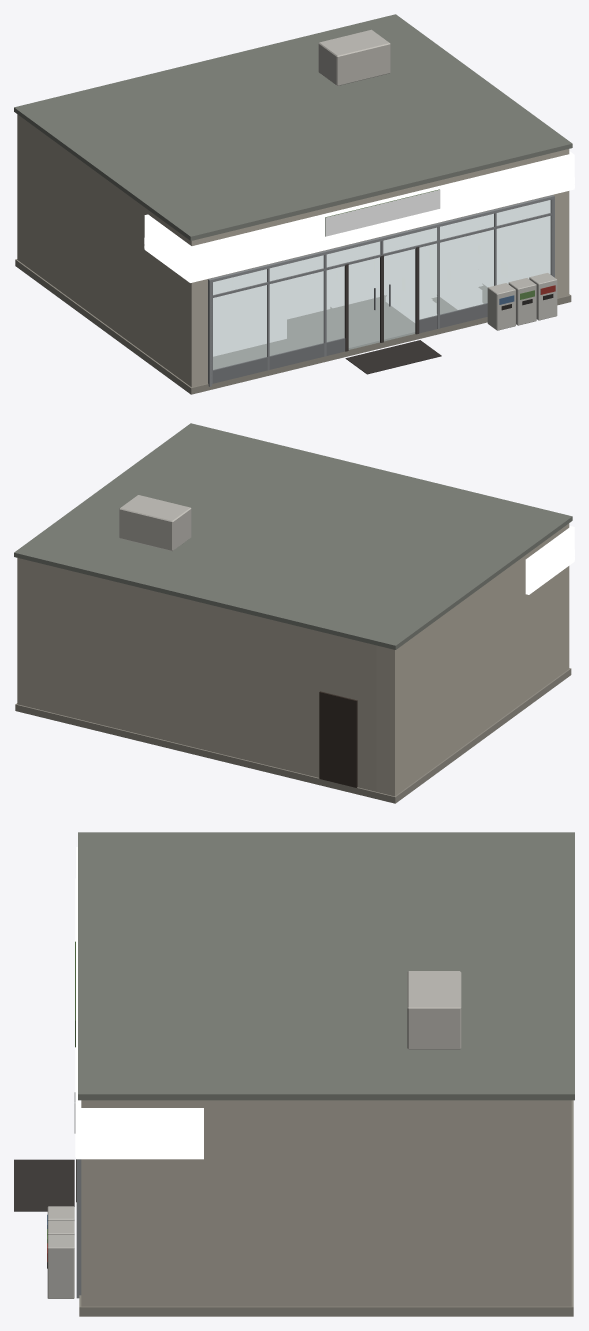
Rendered from building_konbini_01.glb.
3 views of the same model, one above another, from view 1: azimuth 30°, elevation 25°; view 2: azimuth 150°, elevation 25°; view 3: azimuth 270°, elevation 25° (orthographic). The views are drawn at different scales.
Visible parts, largest first — view 1: building_konbini_01; view 2: building_konbini_01; view 3: building_konbini_01.
Boxes of the visible parts, box(x1,y1,x2,y2) form: building_konbini_01: box(14, 14, 574, 394); building_konbini_01: box(14, 423, 574, 803); building_konbini_01: box(14, 832, 574, 1316).
Bounding box in the file's own units: 9.28 × 4.35 × 8.33.
